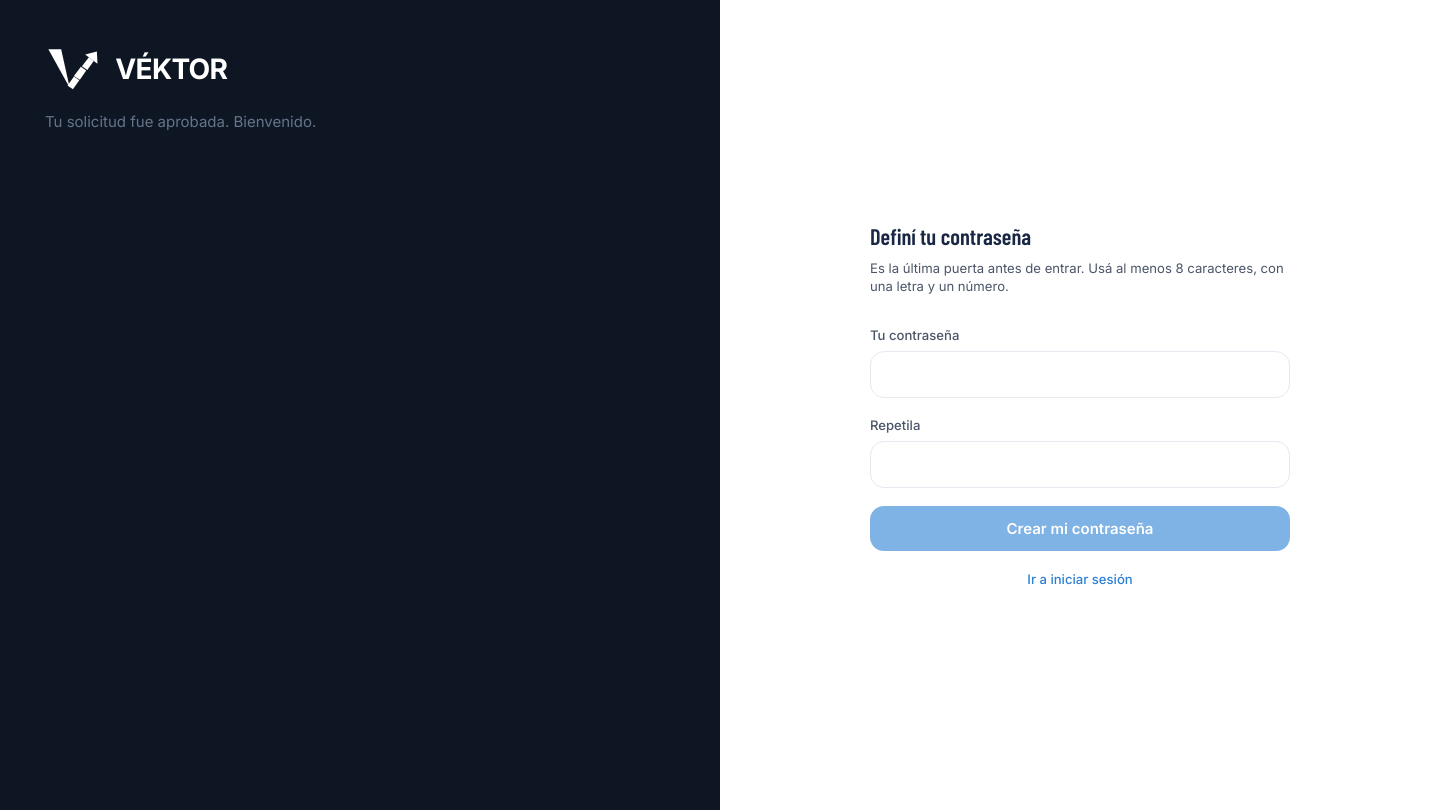
Test: /definir-password › si el token es inválido no redirige: se queda y lo dice
This screenshot has width=1440, height=810.
Type "vektor123" into the password field labelled "Tu contraseña".
click(1080, 374); type("vektor123")  # box [870, 350, 1290, 398]
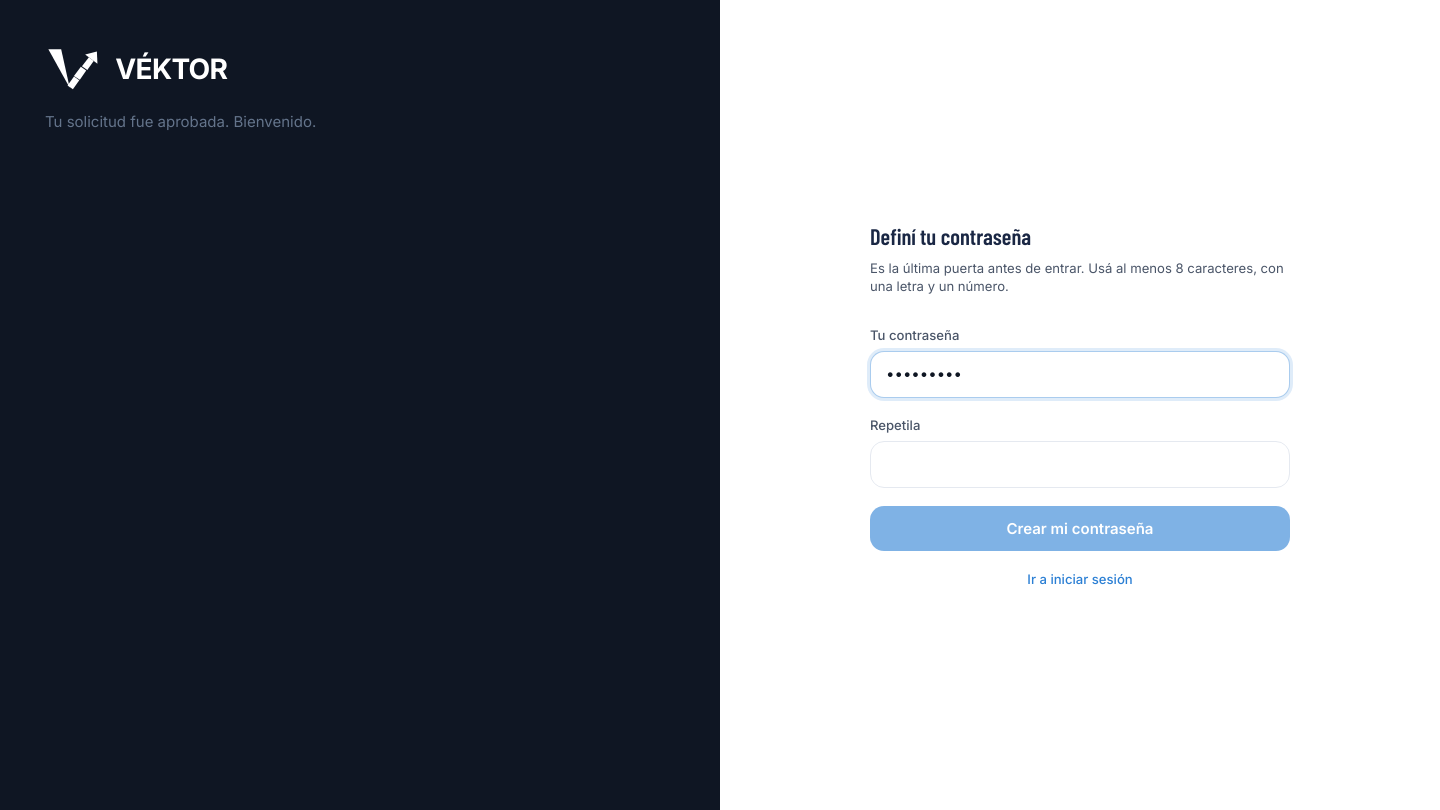
Type "vektor123" into the password field labelled "Repetila".
click(1080, 464); type("vektor123")  # box [870, 441, 1290, 488]
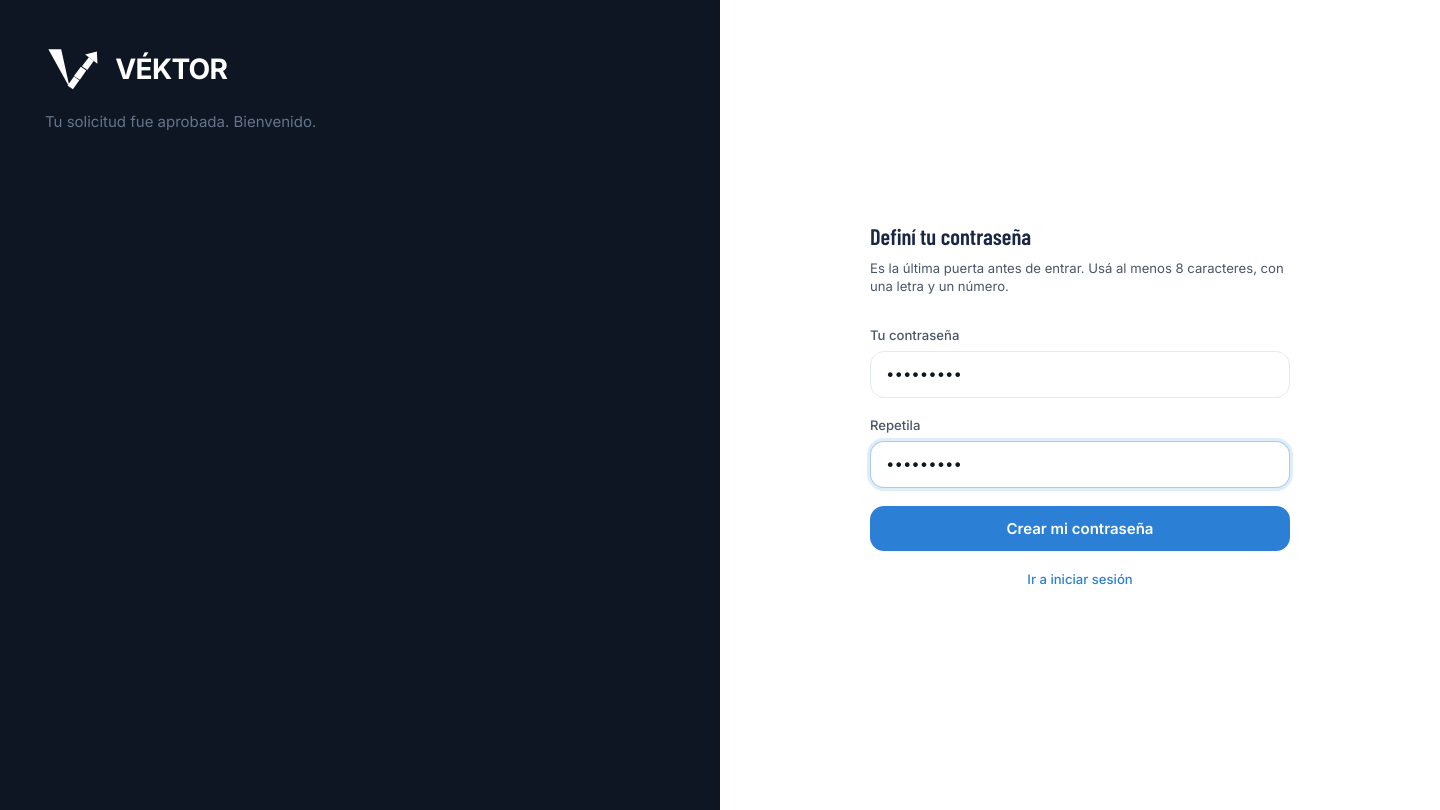
Click the button "Crear mi contraseña".
click(1080, 529)  # box [870, 506, 1290, 551]
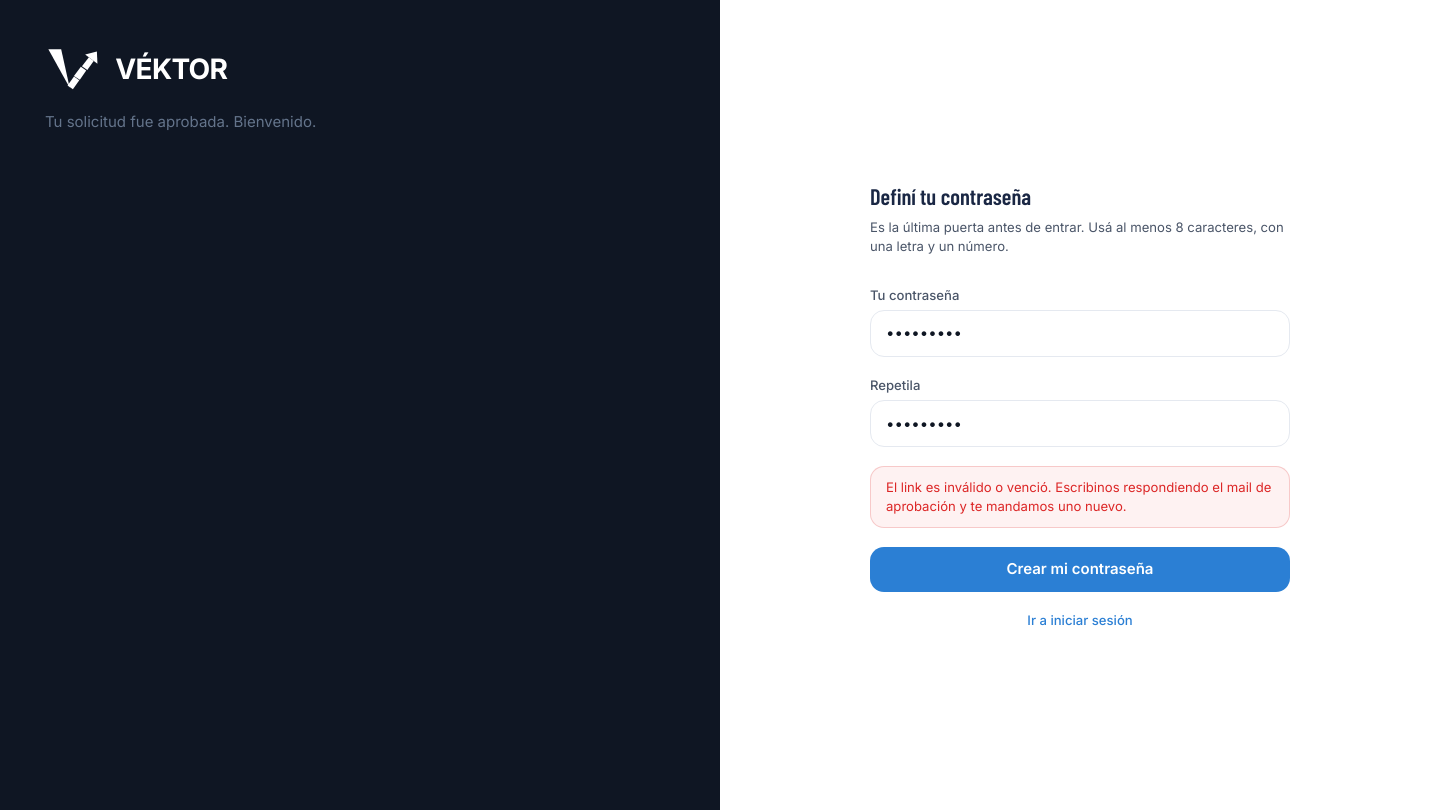
Result: the message shows "El link es inválido o venció" at [886, 479, 1271, 514]
